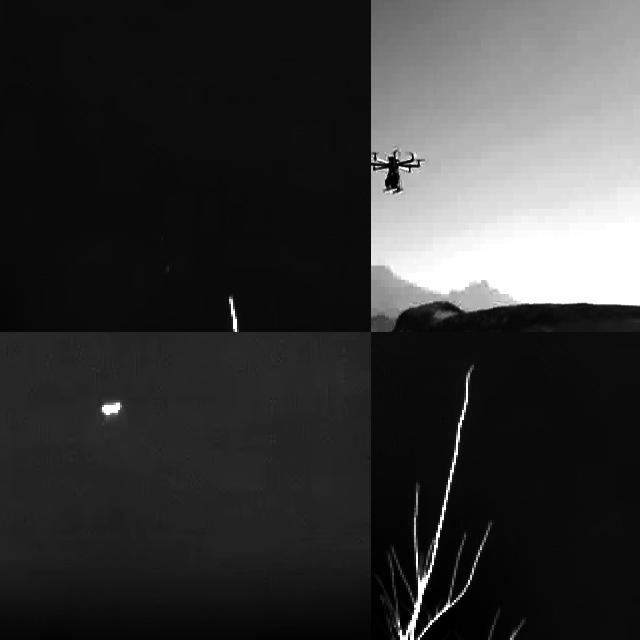0: (156, 252, 182, 286)
1: (79, 391, 147, 434)
drone: (371, 144, 422, 196)
